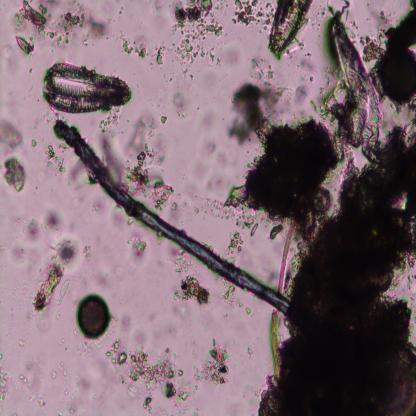Anthropogenic: (53, 121, 289, 314)
Background material: (256, 120, 416, 414), (221, 77, 333, 240), (106, 338, 193, 414), (363, 0, 416, 119), (106, 114, 173, 206), (32, 233, 80, 312), (13, 0, 85, 50), (173, 0, 223, 72), (0, 122, 29, 194), (158, 71, 200, 116), (193, 338, 229, 388), (9, 217, 40, 261), (18, 360, 46, 406), (232, 0, 273, 30), (173, 274, 210, 306), (245, 49, 272, 84), (193, 193, 226, 220), (0, 39, 22, 75), (66, 328, 93, 357), (126, 233, 150, 264), (69, 170, 92, 201), (119, 34, 148, 58), (56, 384, 78, 414), (45, 143, 65, 175), (0, 355, 13, 403), (20, 307, 46, 331), (92, 260, 110, 294), (87, 14, 107, 44), (79, 368, 96, 394), (79, 236, 96, 262), (227, 231, 244, 256), (47, 209, 63, 233), (50, 359, 70, 378), (153, 46, 168, 70), (93, 200, 109, 218), (30, 138, 38, 148), (18, 341, 28, 348)
Cellulose filter fibre: (330, 15, 381, 156)
Diatom: (44, 61, 132, 114), (266, 0, 314, 56), (77, 294, 111, 340), (15, 35, 31, 56)
